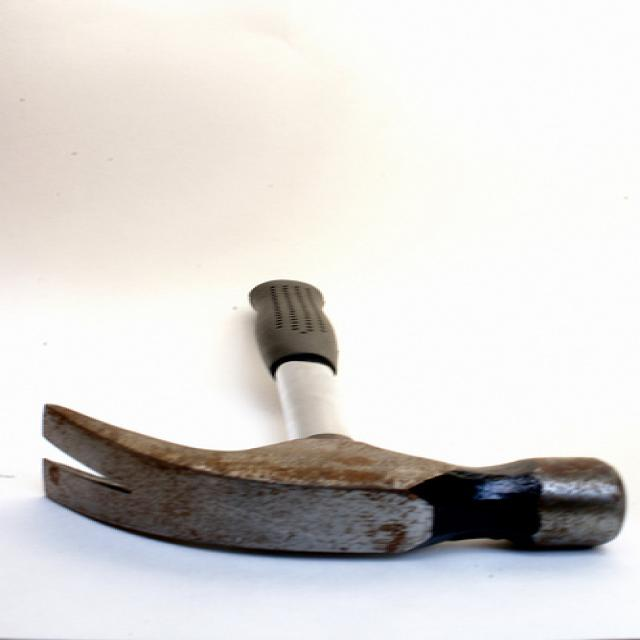hammer: (32, 238, 640, 595)
